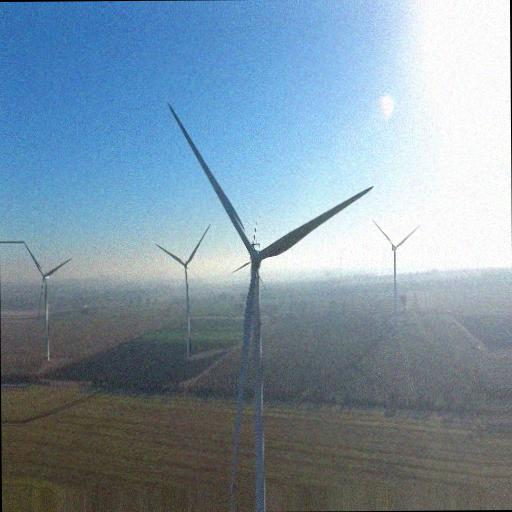wind turbine: (166, 100, 376, 512), (155, 223, 212, 361), (22, 241, 72, 365), (370, 219, 422, 310)
